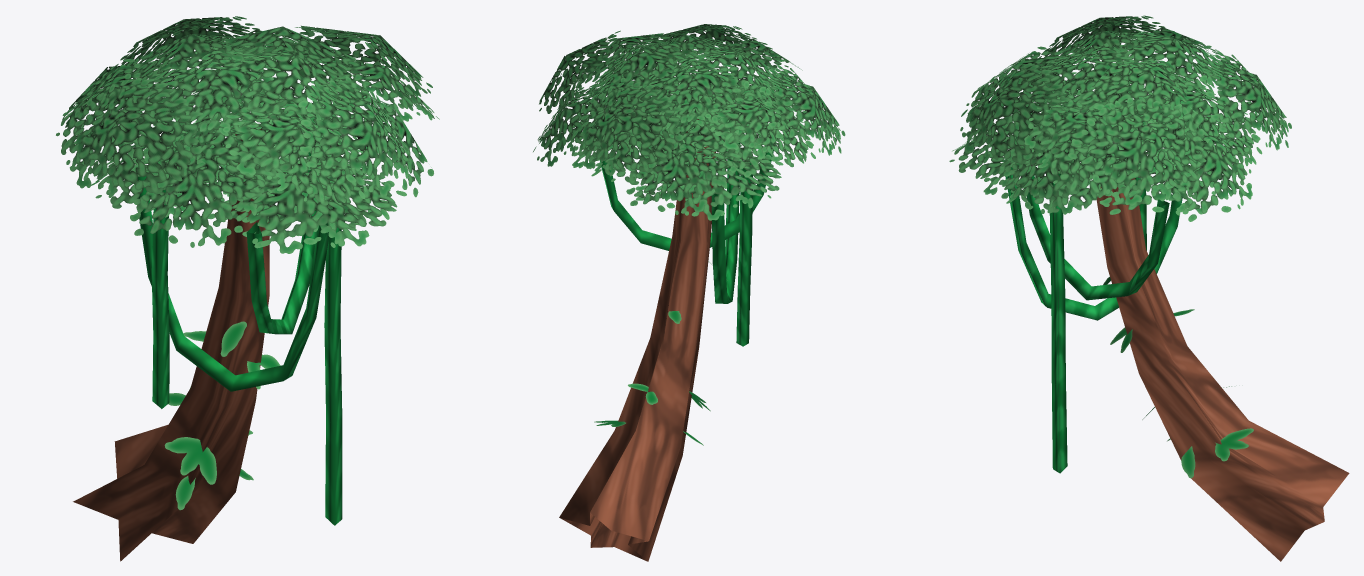
The model's file is JungleTree-1.fbx.
The picture shows the model from 3 angles, left to right: view 1: azimuth 30°, elevation 25°; view 2: azimuth 150°, elevation 25°; view 3: azimuth 270°, elevation 25°; orthographic projection. The views are drawn at different scales.
Parts seen in each view (by area): view 1: JungleTree-1; view 2: JungleTree-1; view 3: JungleTree-1.
Boxes of the visible parts, x1=… form: JungleTree-1: x1=56, y1=16, x2=439, y2=561; JungleTree-1: x1=533, y1=24, x2=845, y2=561; JungleTree-1: x1=949, y1=15, x2=1349, y2=561.
Size of the model in its own units: 261 by 219 by 320.
